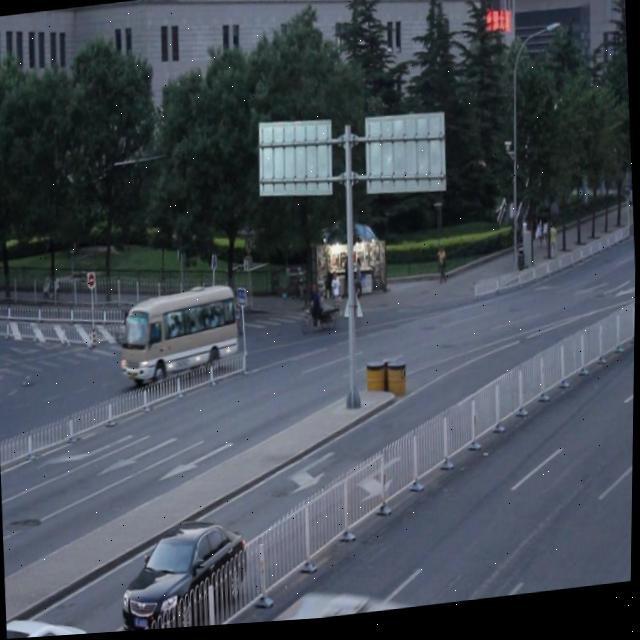car: (120, 516, 252, 633), (123, 294, 189, 351), (8, 611, 92, 639)
truck: (118, 288, 244, 387)
van: (248, 574, 416, 627)
